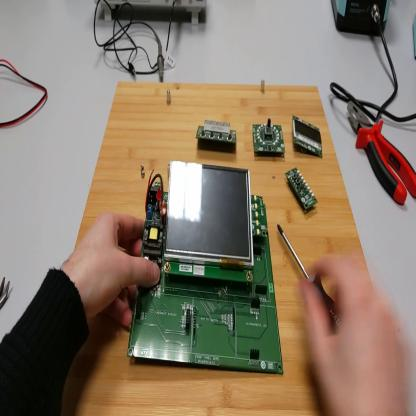hand: (299, 251, 410, 416), (66, 209, 159, 332)
low voltage board: (128, 163, 284, 378)
oscilloscope: (96, 1, 207, 29)
oscilloscope probe tip: (156, 35, 166, 80)
pliers: (347, 100, 416, 209), (1, 276, 11, 311)
screwdriver-: (278, 221, 344, 335)
welder base: (413, 14, 416, 62)
welder station: (332, 2, 391, 34)
working area: (62, 76, 370, 416)
